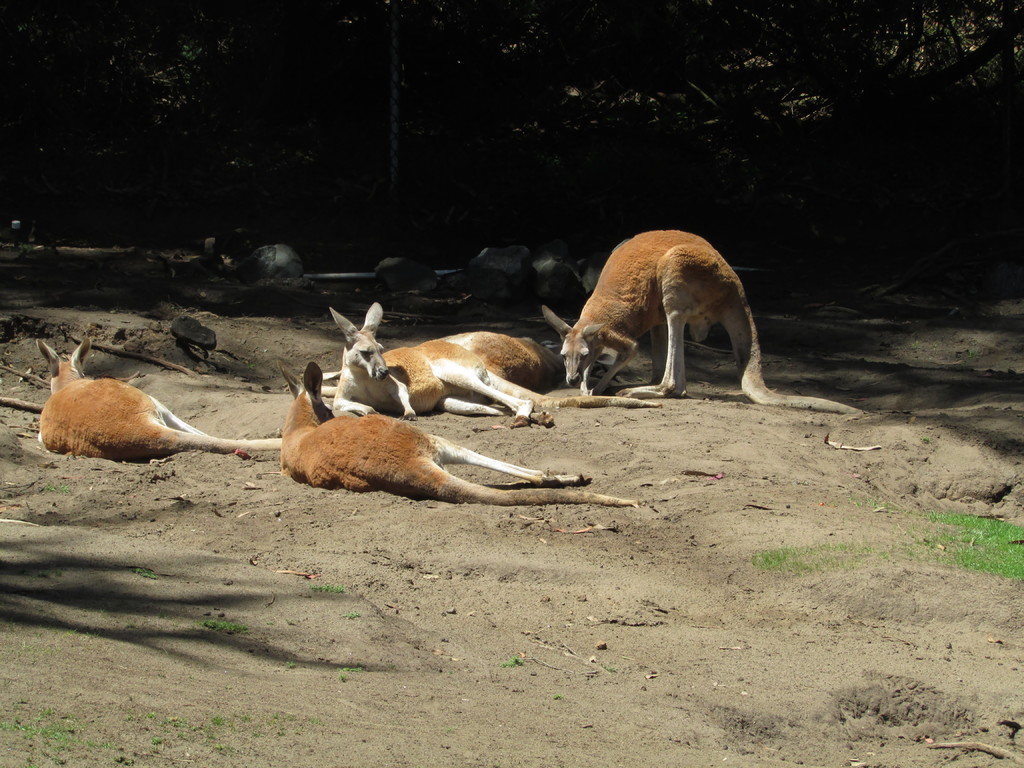kangaroo: (280, 360, 633, 509)
